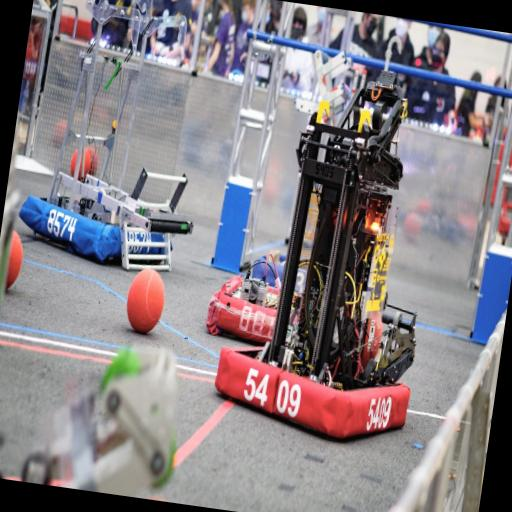robot: (204, 54, 454, 448), (13, 0, 214, 290), (208, 270, 338, 356)
